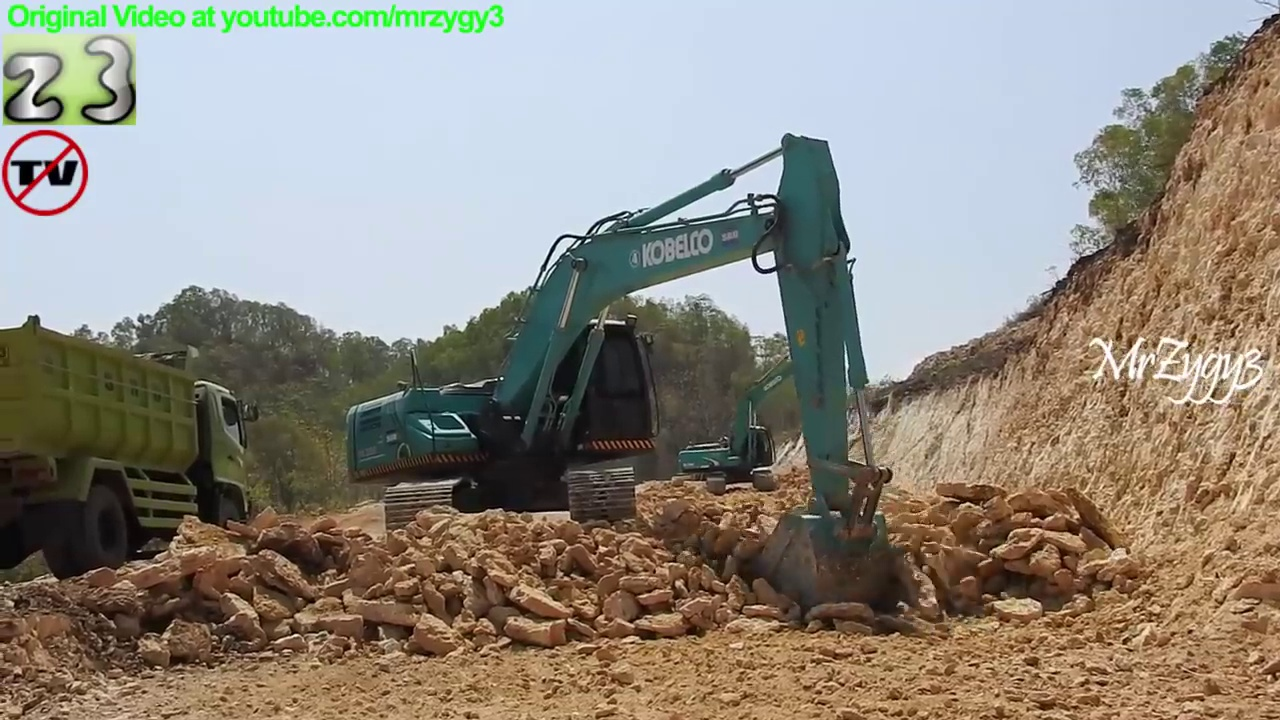excavator: (340, 126, 903, 630), (675, 326, 855, 496)
truck: (1, 309, 264, 593)
